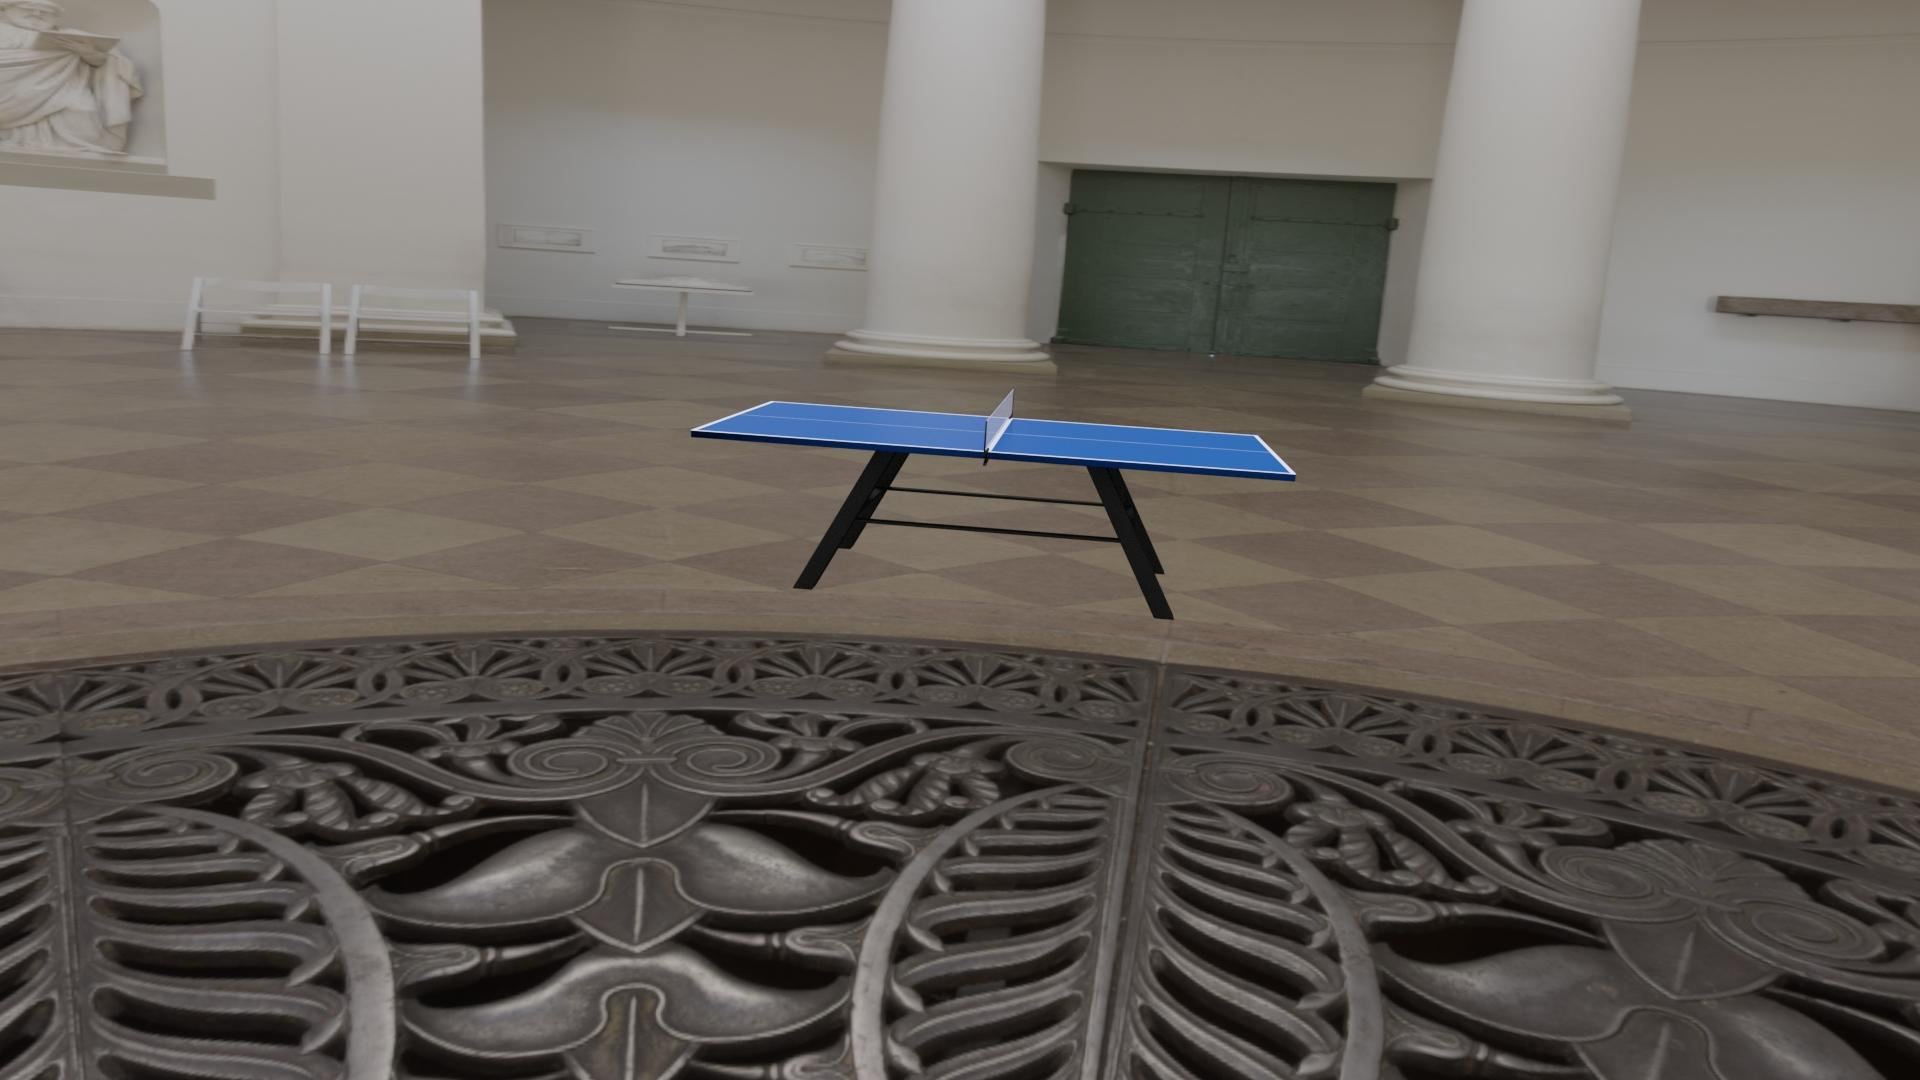table: (696, 402, 1291, 473)
